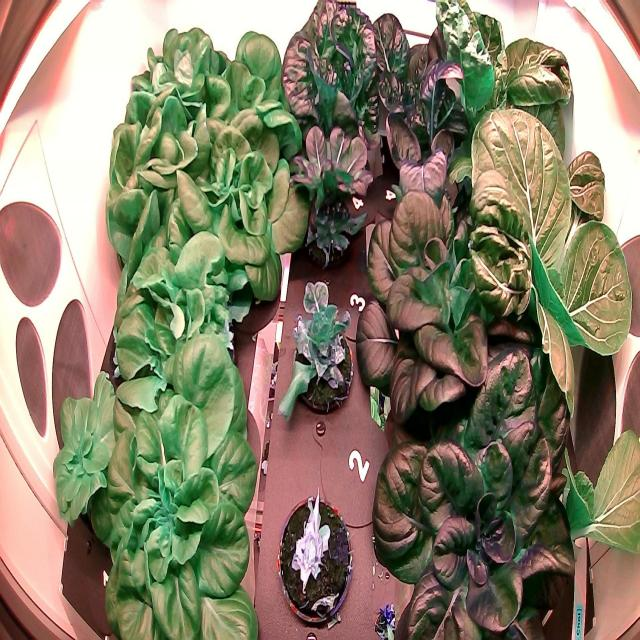Ready: (367, 333, 587, 640), (349, 168, 565, 440), (362, 1, 503, 191), (156, 118, 298, 305), (129, 21, 237, 204), (279, 0, 394, 161), (103, 79, 203, 251), (198, 31, 299, 170)
young: (84, 333, 263, 639), (110, 218, 254, 402), (282, 119, 379, 276), (52, 366, 140, 533)
